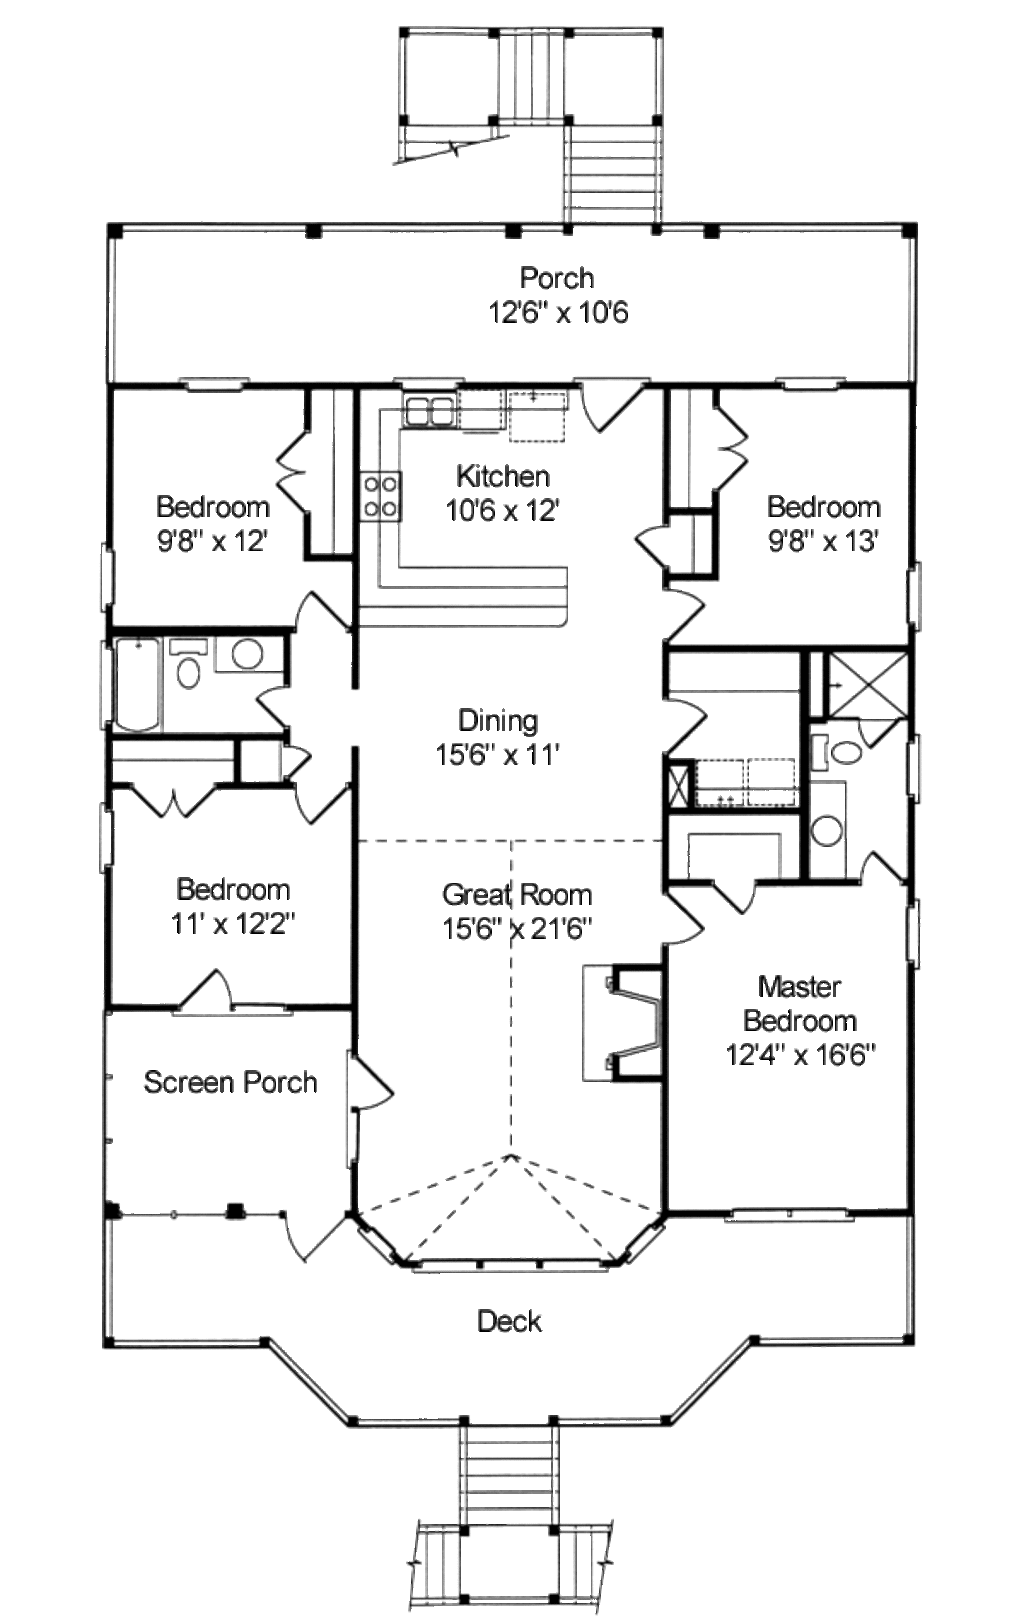door: (708, 401, 757, 497), (124, 778, 217, 824), (575, 370, 645, 429), (284, 592, 350, 649), (269, 425, 308, 518), (172, 960, 236, 1016), (659, 585, 708, 654), (346, 1049, 398, 1113), (655, 690, 707, 752), (658, 887, 707, 952), (285, 778, 339, 829), (621, 523, 671, 573)
large_sink: (160, 630, 219, 698), (800, 719, 860, 785)
small_sink: (212, 642, 293, 690), (807, 783, 846, 878)
stairs: (395, 14, 672, 227), (367, 1418, 619, 1613)
tub: (114, 632, 165, 737)
twin_sink: (396, 391, 467, 428)
windows: (415, 1254, 603, 1275), (284, 1208, 352, 1261), (715, 1203, 852, 1229), (177, 370, 247, 404), (772, 366, 844, 396)
